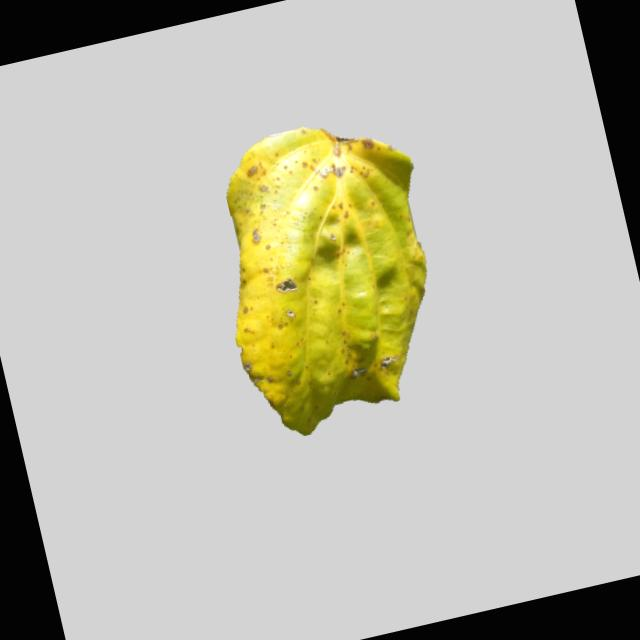yellow-mottle-virus: (178, 100, 468, 448)
